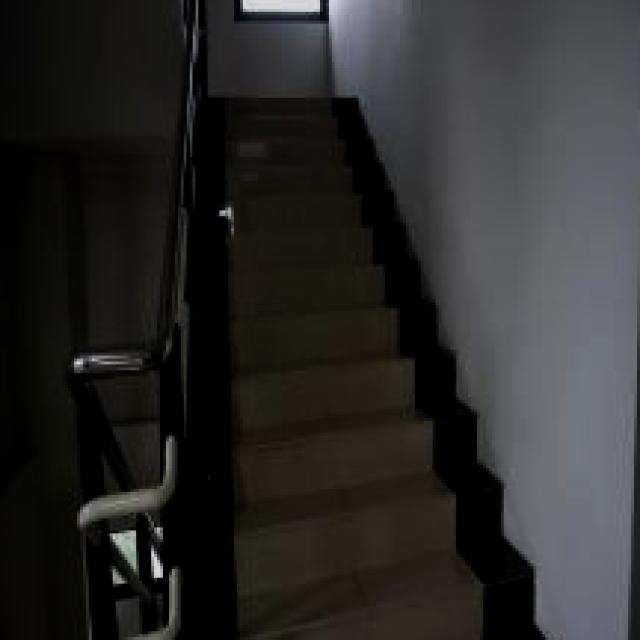upstair: (197, 140, 481, 640)
